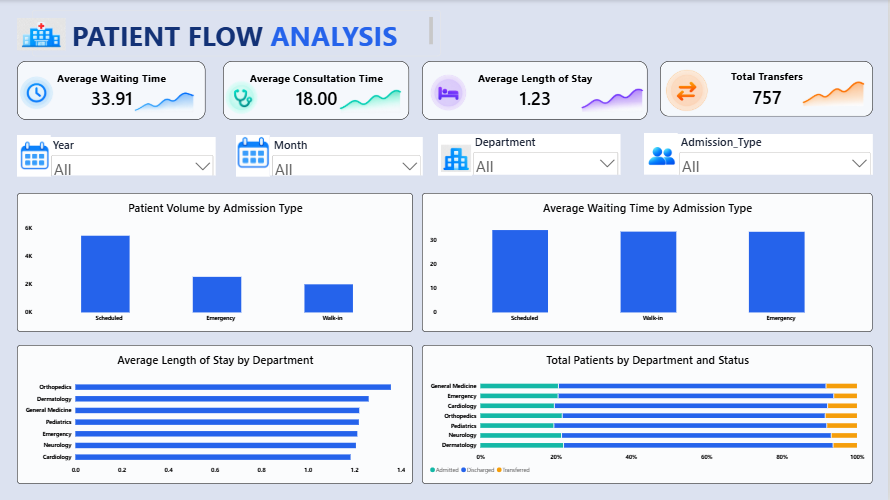

This screenshot's page, from the dashboard's own definition file:
{"tool":"powerbi","page":{"name":"Patient Flow Analysis","canvas":[1920,1080],"ordinal":1},"visuals":[{"type":"textbox","box":[70,22.5,882.5,100],"z":0},{"type":"cardVisual","fields":{"Data":["hospital_operations.Average Waiting Time"]},"box":[37.5,132.5,407.5,127.5],"z":1000},{"type":"cardVisual","fields":{"Data":["hospital_operations.Average Consultation Time"]},"box":[482.5,132.5,402.5,127.5],"z":2000},{"type":"cardVisual","fields":{"Data":["hospital_operations.Average Length of Stay"]},"box":[912.5,132.5,487.5,127.5],"z":3000},{"type":"cardVisual","fields":{"Data":["hospital_operations.Total Transfers"]},"box":[1425,132.5,460,120],"z":4000},{"type":"columnChart","title":"Patient Volume by Admission Type","fields":{"Category":["hospital_operations.Admission_Type"],"Y":["hospital_operations.Total Patients"]},"box":[37.5,417.5,855,300],"z":5000},{"type":"clusteredColumnChart","title":"Average Waiting Time by Admission Type","fields":{"Category":["hospital_operations.Admission_Type"],"Y":["hospital_operations.Average Waiting Time"]},"box":[912.5,417.5,972.5,300],"z":6000},{"type":"clusteredBarChart","fields":{"Category":["hospital_operations.Department"],"Y":["hospital_operations.Average Length of Stay"]},"box":[37.5,745,855,300],"z":7000},{"type":"hundredPercentStackedBarChart","fields":{"Category":["hospital_operations.Department"],"Series":["hospital_operations.Status"],"Y":["hospital_operations.Total Patients"]},"box":[912.5,745,972.5,300],"z":8000},{"type":"slicer","fields":{"Values":["hospital_operations.Month"]},"box":[582.5,295,330,82.5],"z":9000},{"type":"slicer","fields":{"Values":["hospital_operations.Admission_Type"]},"box":[1462.5,290,422.5,87.5],"z":10000},{"type":"slicer","fields":{"Values":["hospital_operations.Department"]},"box":[1017.5,290,322.5,87.5],"z":11000},{"type":"slicer","fields":{"Values":["hospital_operations.Year"]},"box":[105,295,360,82.5],"z":12000},{"type":"shape","box":[510,292.5,72.9,90],"z":13000},{"type":"shape","box":[945,290,72.9,90],"z":14000},{"type":"shape","box":[1390,287.5,72.9,90],"z":15000},{"type":"shape","box":[37.5,292.5,72.9,90],"z":16000},{"type":"image","box":[32.5,297.5,85,75],"z":17000},{"type":"image","box":[500,287.5,96,83],"z":18000},{"type":"image","box":[952.5,305,65,75],"z":19000},{"type":"image","box":[1390,292.5,77,87],"z":20000},{"type":"image","box":[37.5,132.5,85,135],"z":21000},{"type":"image","box":[920,152.5,97.5,90],"z":22000},{"type":"image","box":[1427.5,145,112.3,99.4],"z":23000},{"type":"image","box":[482.5,160,80,100],"z":24000},{"type":"image","box":[730,140,138.2,151.2],"z":25000},{"type":"image","box":[1252.5,137.5,138.2,151.2],"z":26000},{"type":"image","box":[1730,125,138.2,151.2],"z":27000},{"type":"image","box":[285,142.5,138.2,151.2],"z":28000},{"type":"image","box":[36.7,26.7,105,95],"z":29000}]}

Visuals, with their boxes in screenshot pixels (x1, y1, x2, y2), scaled from the page's 1920x1080 canvas onto the 890x500 screenshot:
textbox: detection(32, 10, 442, 57)
cardVisual - hospital_operations.Average Waiting Time: detection(17, 61, 206, 120)
cardVisual - hospital_operations.Average Consultation Time: detection(224, 61, 410, 120)
cardVisual - hospital_operations.Average Length of Stay: detection(423, 61, 649, 120)
cardVisual - hospital_operations.Total Transfers: detection(661, 61, 874, 117)
"Patient Volume by Admission Type" columnChart: detection(17, 193, 414, 332)
"Average Waiting Time by Admission Type" clusteredColumnChart: detection(423, 193, 874, 332)
clusteredBarChart - hospital_operations.Department x hospital_operations.Average Length of Stay: detection(17, 345, 414, 484)
hundredPercentStackedBarChart - hospital_operations.Department x hospital_operations.Status: detection(423, 345, 874, 484)
slicer - hospital_operations.Month: detection(270, 137, 423, 175)
slicer - hospital_operations.Admission_Type: detection(678, 134, 874, 175)
slicer - hospital_operations.Department: detection(472, 134, 621, 175)
slicer - hospital_operations.Year: detection(49, 137, 216, 175)
shape: detection(236, 135, 270, 177)
shape: detection(438, 134, 472, 176)
shape: detection(644, 133, 678, 175)
shape: detection(17, 135, 51, 177)
image: detection(15, 138, 54, 172)
image: detection(232, 133, 276, 172)
image: detection(442, 141, 472, 176)
image: detection(644, 135, 680, 176)
image: detection(17, 61, 57, 124)
image: detection(426, 71, 472, 112)
image: detection(662, 67, 714, 113)
image: detection(224, 74, 261, 120)
image: detection(338, 65, 402, 135)
image: detection(581, 64, 645, 134)
image: detection(802, 58, 866, 128)
image: detection(132, 66, 196, 136)
image: detection(17, 12, 66, 56)
